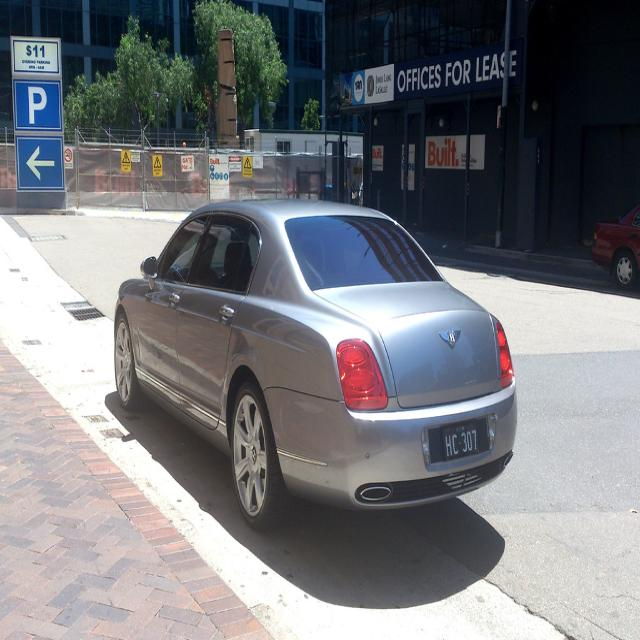car: (112, 192, 517, 536)
